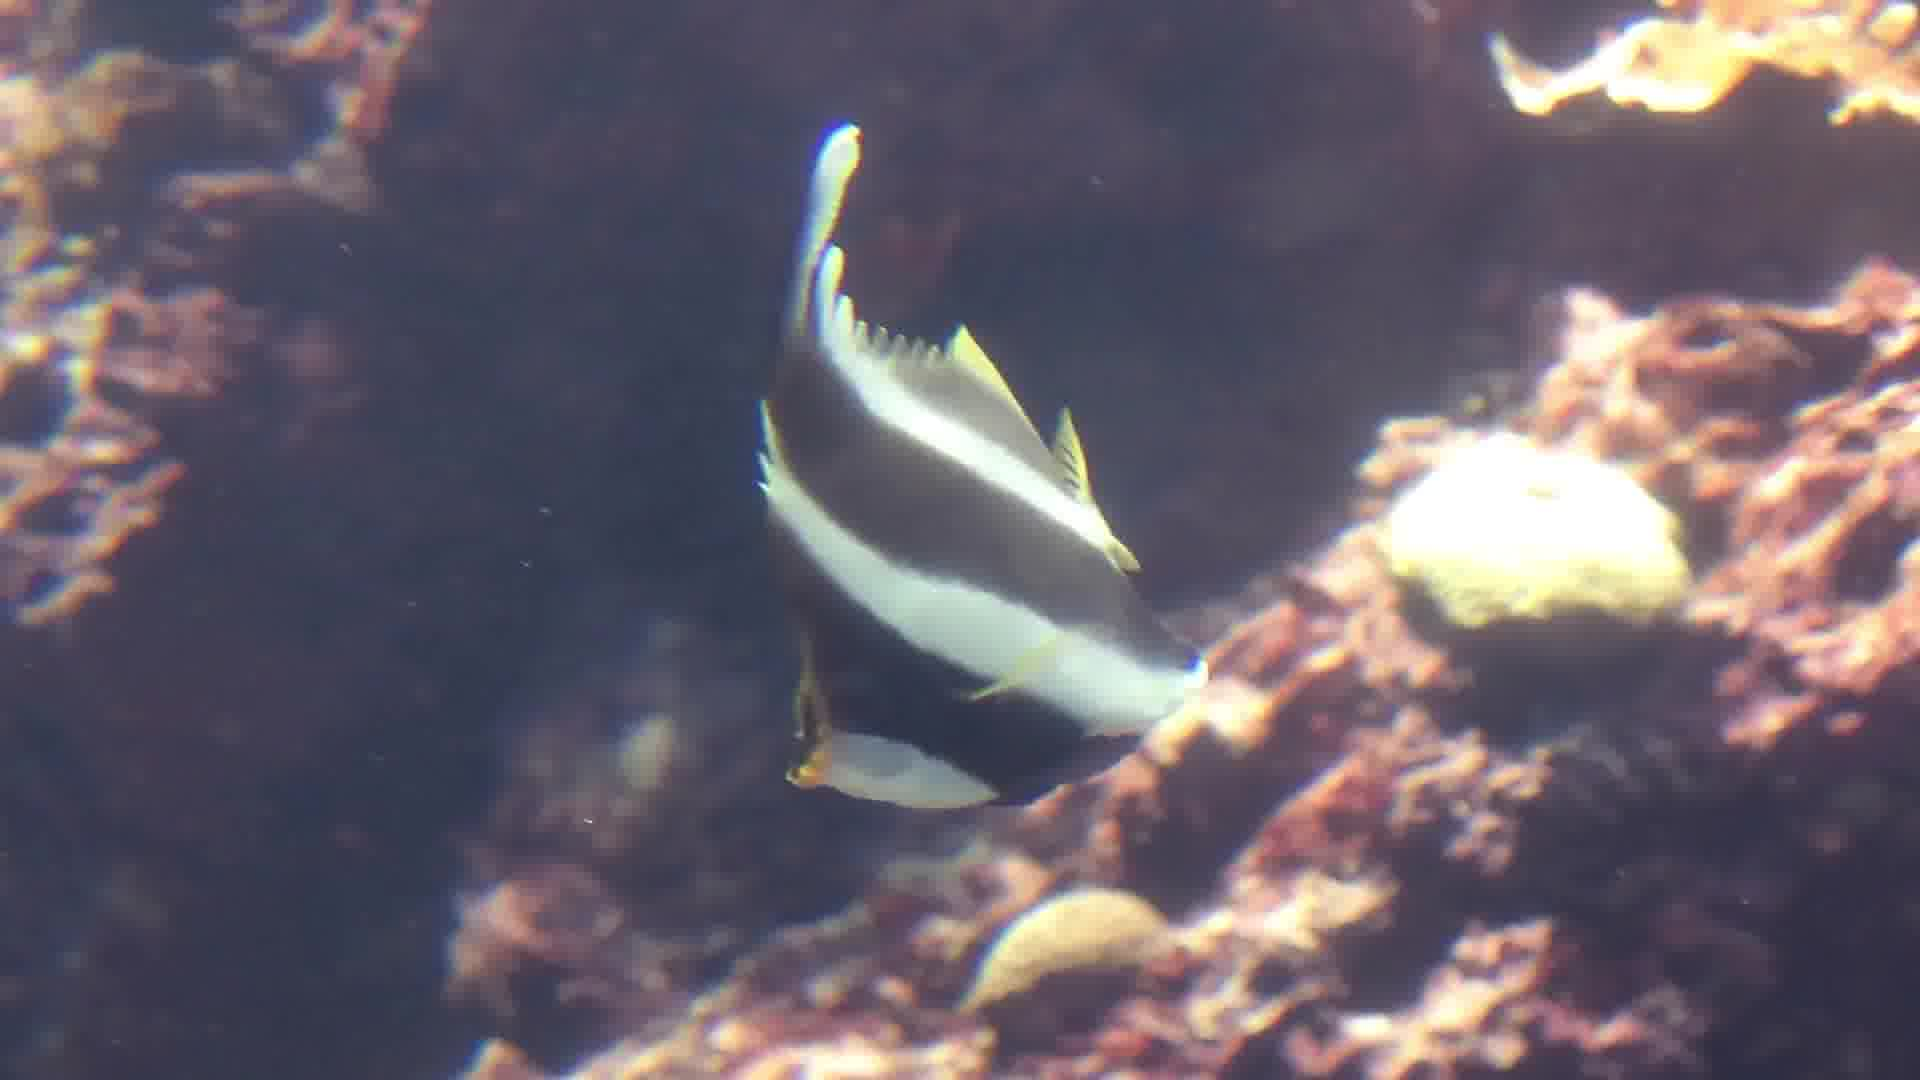Heniochus chrysostomus: (705, 69, 1232, 845)
